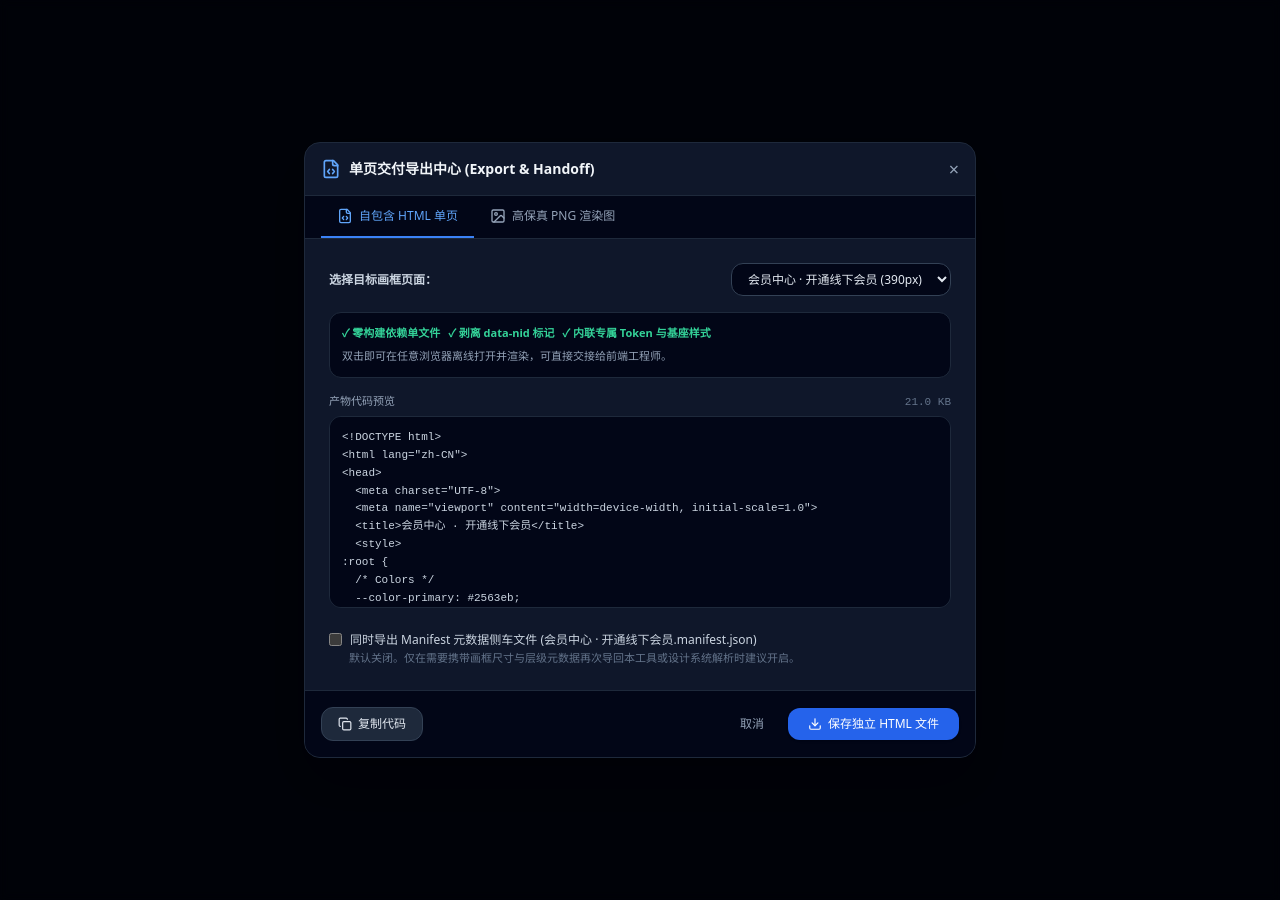
Test: ExportModal UI Specification (ISSUE-024 / CHK-EXP-01 ~ CHK-EXP-05) › CHK-EXP-04: switching to PNG tab reveals scale selection and clip range options
Click the button "高保真 PNG 渲染图" at (553,217), box [474, 196, 631, 238]
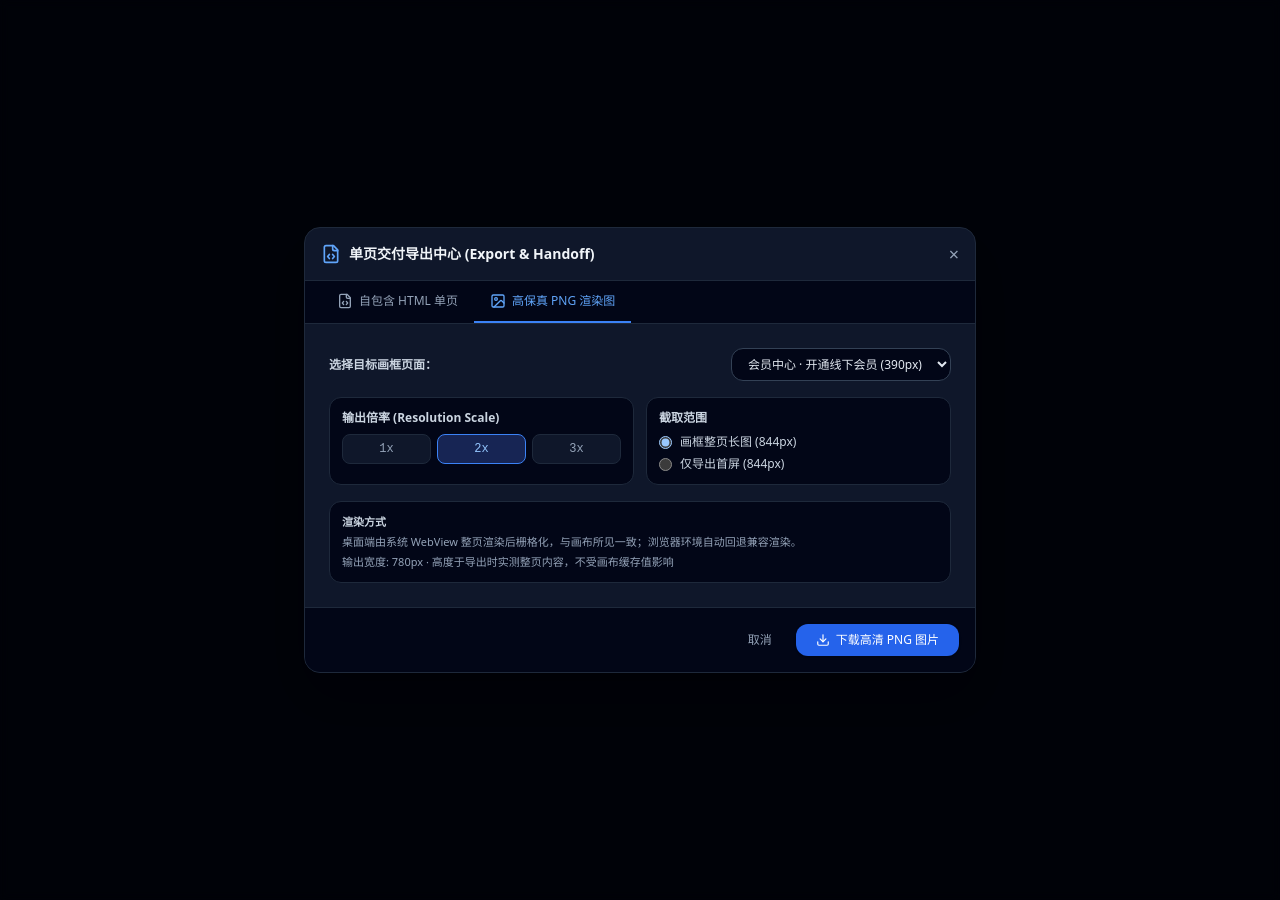
Result: the text "输出倍率 (Resolution Scale)" is shown at [342, 409, 499, 426]
Result: the text "截取范围" is shown at [659, 409, 707, 426]
Result: the text "画框整页长图" is shown at [680, 433, 759, 450]
